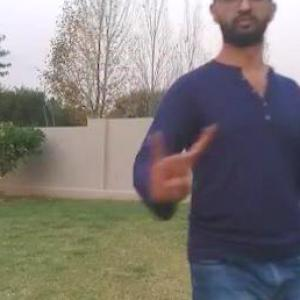takeoff-hand: (143, 122, 221, 205)
